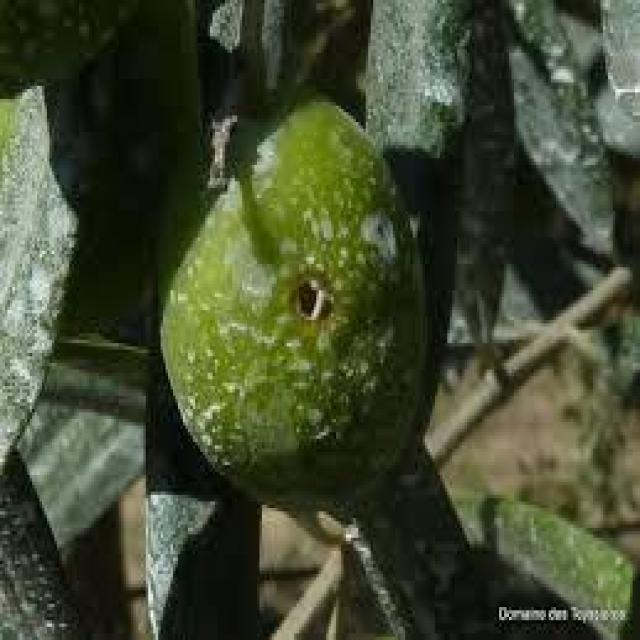Olive Fruit Fly: (163, 102, 423, 498)
